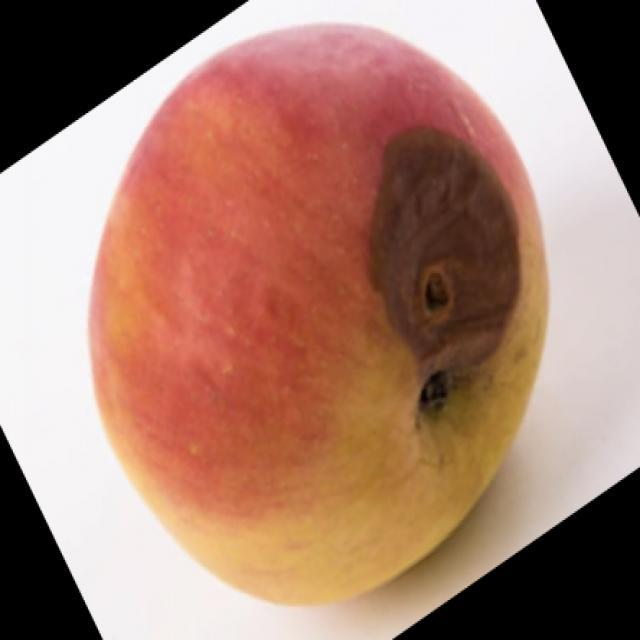Rotten: (90, 35, 535, 610)
